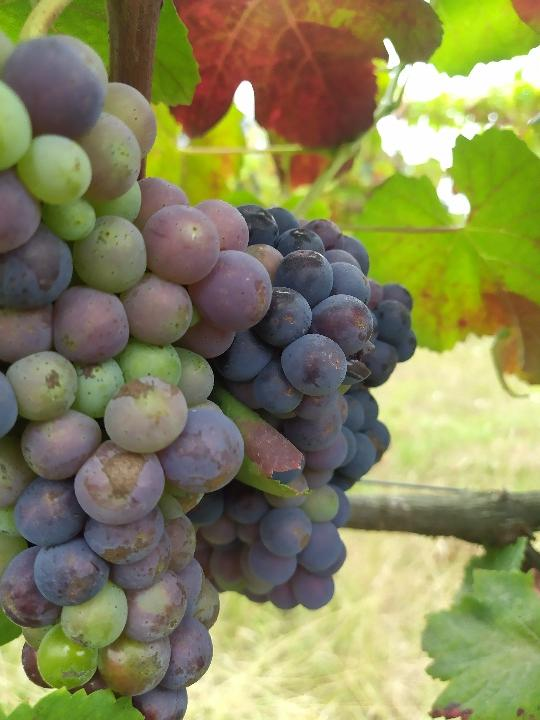grape: (0, 34, 279, 720), (192, 205, 419, 616)
